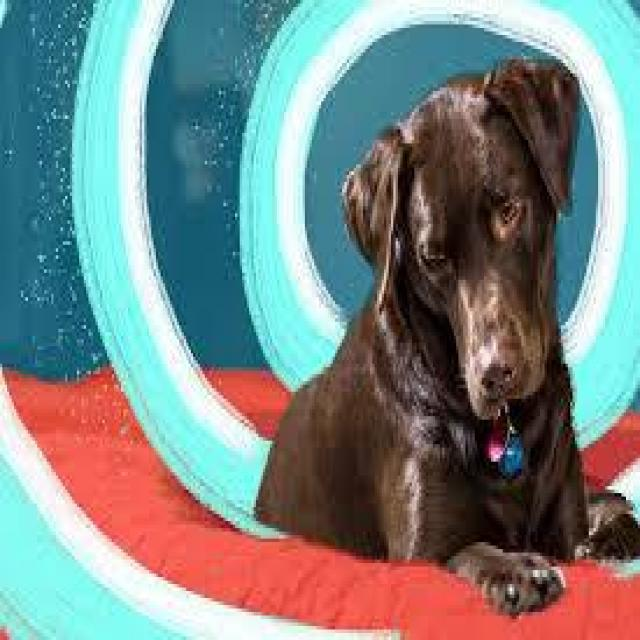Dog: (338, 51, 607, 457)
